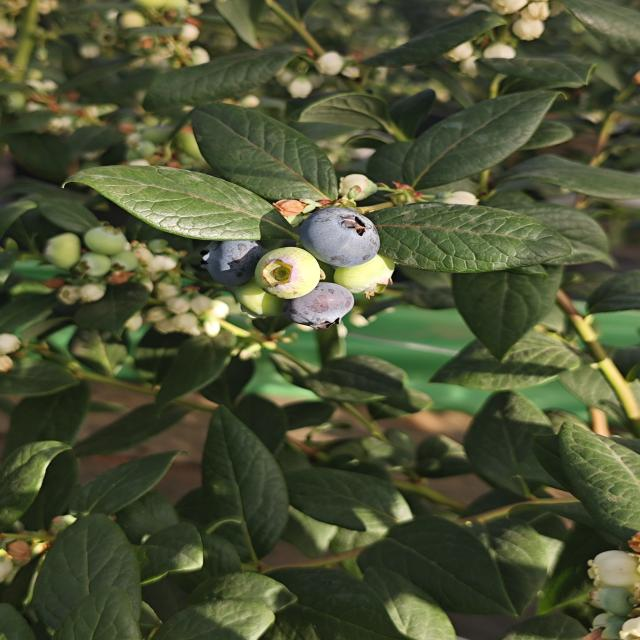ripe: (296, 204, 384, 270), (282, 281, 357, 331), (199, 238, 263, 288)
